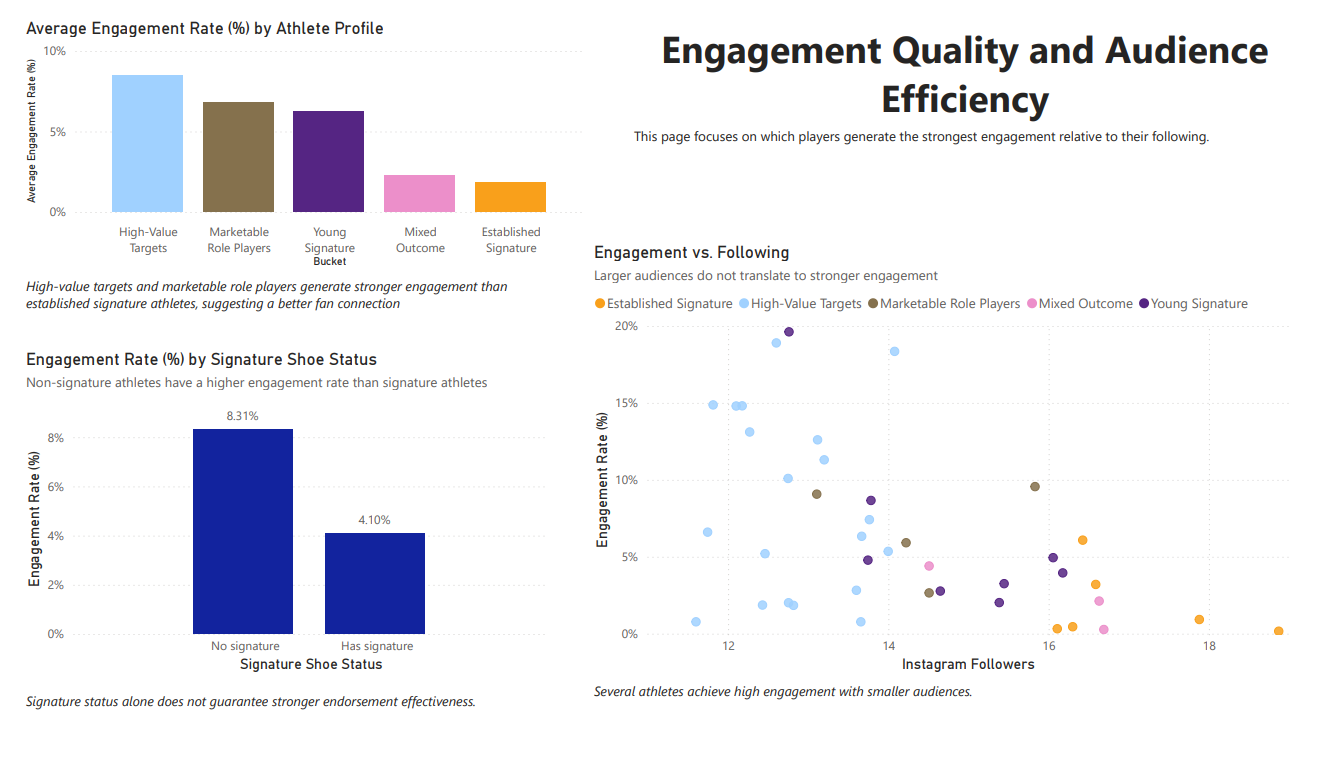

This screenshot's page, from the dashboard's own definition file:
{"tool":"powerbi","page":{"name":"Engagement Rates","canvas":[1280,720],"ordinal":3},"visuals":[{"type":"scatterChart","title":"Engagement vs. Following","fields":{"Y":["Avg(followers_vs_engagement_scatter.y_engagement)"],"X":["Sum(followers_vs_engagement_scatter.x_log_followers)"],"Category":["followers_vs_engagement_scatter.athlete"],"Series":["bucket_summary.bucket"]},"box":[568,223.7,712,435.7],"z":0},{"type":"clusteredColumnChart","fields":{"Category":["sig_vs_no_sig_comparison.signature_group"],"Y":["Avg(sig_vs_no_sig_comparison.avg_engagement)"]},"box":[0,330.7,533,328.8],"z":1000},{"type":"textbox","box":[0,669.2,498,37],"z":2000},{"type":"clusteredColumnChart","title":"Average Engagement Rate (%) by  Athlete Profile","fields":{"Category":["bucket_summary.bucket"],"Y":["Avg(bucket_summary.avg_engagement)"]},"box":[0,0,568,253.9],"z":3000},{"type":"textbox","box":[0,253.9,533,49.6],"z":4000},{"type":"textbox","box":[568,659.5,712,60.3],"z":5000},{"type":"textbox","box":[607.9,0,672.1,127.4],"z":6000},{"type":"textbox","box":[607.9,104.1,647.8,45.7],"z":7000}]}

Visuals, with their boxes in screenshot pixels (x1, y1, x2, y2), scaled from the page's 1280x720 canvas onto the 1317x759 screenshot:
"Engagement vs. Following" scatterChart: 584:236:1316:695
clusteredColumnChart - sig_vs_no_sig_comparison.signature_group x Avg(sig_vs_no_sig_comparison.avg_engagement): 0:349:548:695
textbox: 0:705:512:744
"Average Engagement Rate (%) by  Athlete Profile" clusteredColumnChart: 0:0:584:268
textbox: 0:268:548:320
textbox: 584:695:1316:758
textbox: 625:0:1316:134
textbox: 625:110:1292:158
